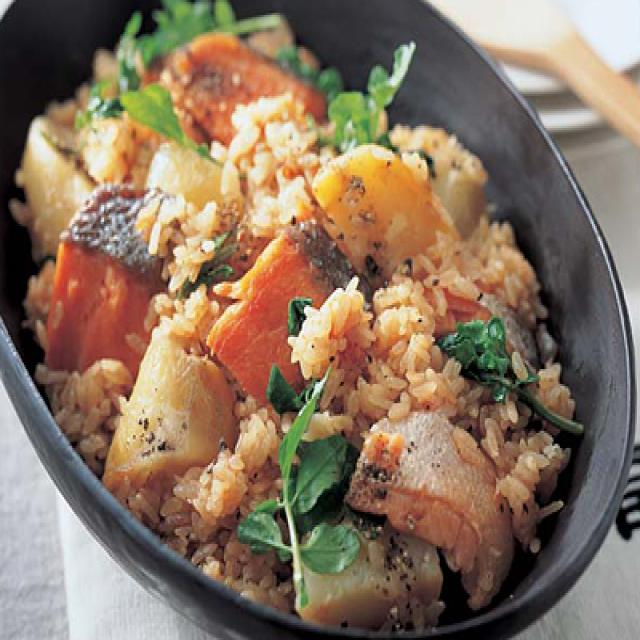米饭主食: (9, 10, 576, 640)
